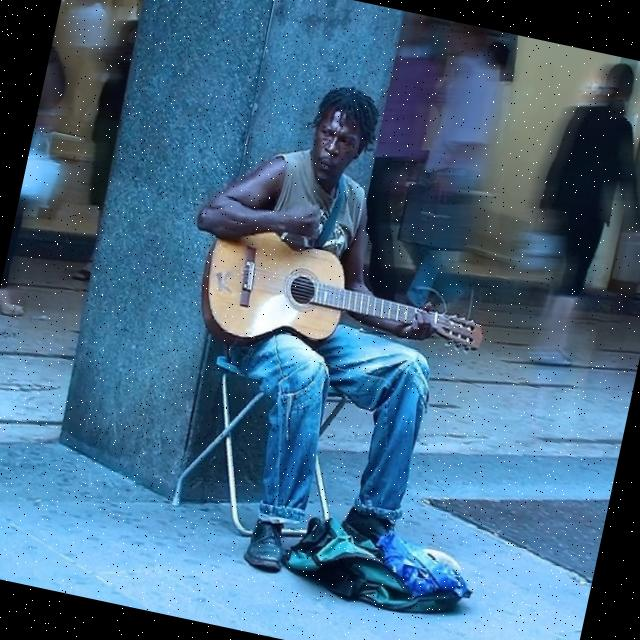guitar: (187, 218, 498, 400)
